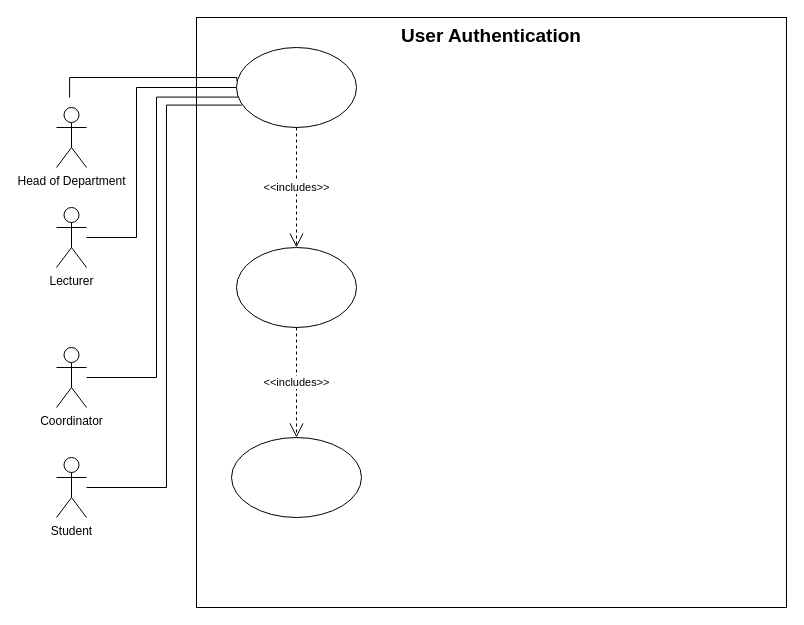
This 804x625 diagram has some shape labels left out. Here are the shapes that lost their labels. From the top down, the centre of each, then its label:
point 296,87: Log In
point 296,287: Verify Credentials
point 296,477: Grant Access
